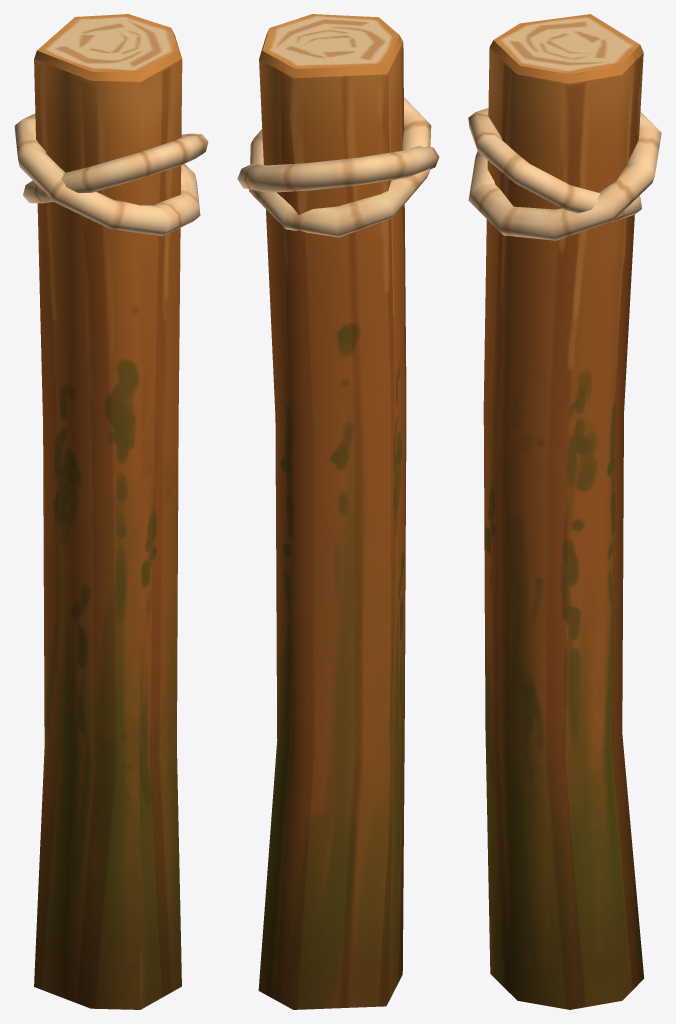
File: port_post1.fbx
3 views of the same model, side by side, from view 1: azimuth 30°, elevation 25°; view 2: azimuth 150°, elevation 25°; view 3: azimuth 270°, elevation 25° (orthographic).
Parts seen in each view (by area): view 1: Poste1; view 2: Poste1; view 3: Poste1.
Boxes of the visible parts, left/top/right/bottom form: Poste1: left=14, top=14, right=208, bottom=1009; Poste1: left=237, top=14, right=439, bottom=1009; Poste1: left=468, top=14, right=661, bottom=1009.
Bounding box in the file's own units: 421 × 2226 × 418.
